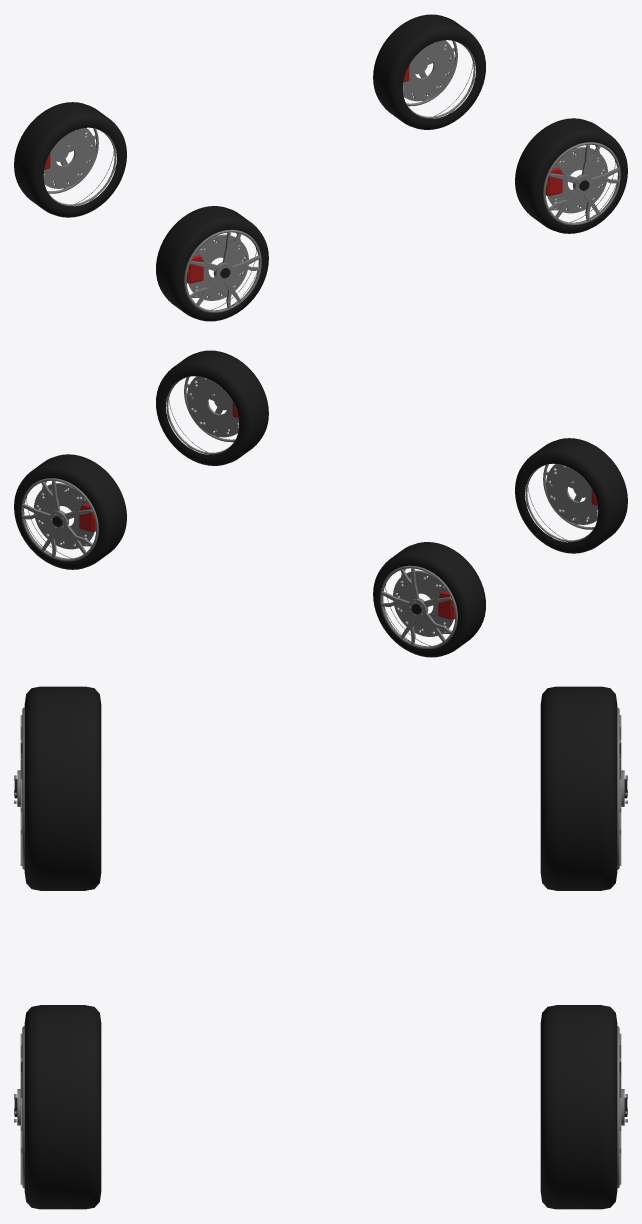
File: helper_smoke.glb
3 views of the same model, one above another, from view 1: azimuth 30°, elevation 25°; view 2: azimuth 150°, elevation 25°; view 3: azimuth 270°, elevation 25° (orthographic). The views are drawn at different scales.
Visible parts, largest first — view 1: Wheel_Front_Right, Wheel_Rear_Right, Wheel_Front_Left, Wheel_Rear_Left; view 2: Wheel_Rear_Left, Wheel_Front_Left, Wheel_Front_Right, Wheel_Rear_Right; view 3: Wheel_Rear_Left, Wheel_Rear_Right, Wheel_Front_Left, Wheel_Front_Right.
Part boxes in pixels (bbox=[...]): Wheel_Front_Right: bbox=[515, 118, 627, 233]; Wheel_Rear_Right: bbox=[156, 206, 268, 321]; Wheel_Front_Left: bbox=[373, 14, 485, 129]; Wheel_Rear_Left: bbox=[14, 102, 126, 217]; Wheel_Rear_Left: bbox=[373, 542, 485, 657]; Wheel_Front_Left: bbox=[14, 454, 126, 569]; Wheel_Front_Right: bbox=[156, 350, 268, 465]; Wheel_Rear_Right: bbox=[515, 438, 627, 553]; Wheel_Rear_Left: bbox=[540, 686, 627, 890]; Wheel_Rear_Right: bbox=[14, 686, 101, 890]; Wheel_Front_Left: bbox=[540, 1005, 627, 1209]; Wheel_Front_Right: bbox=[14, 1005, 101, 1209].
Bounding box in the file's own units: 3.43 × 0.7322 × 2.2.
